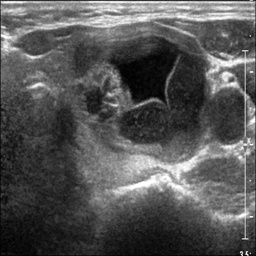mass: (76, 36, 208, 163)
